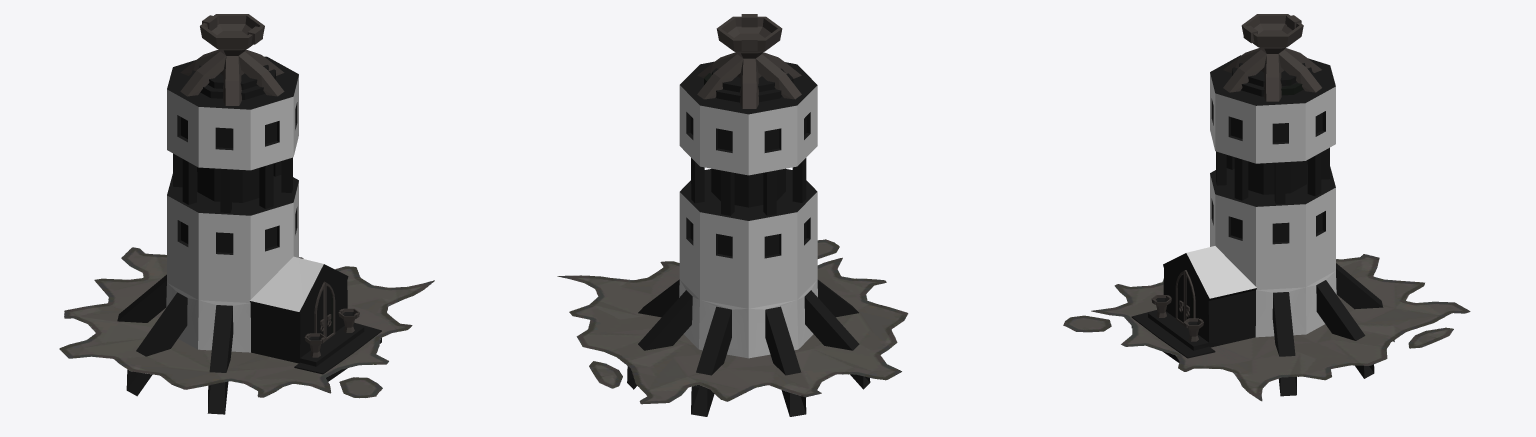
The model's file is hauntDisciple.fbx.
The picture shows the model from 3 angles, left to right: view 1: azimuth 30°, elevation 25°; view 2: azimuth 150°, elevation 25°; view 3: azimuth 270°, elevation 25°; orthographic projection. The views are drawn at different scales.
Parts seen in each view (by area): view 1: hauntDisciple, groundPlane; view 2: hauntDisciple, groundPlane; view 3: hauntDisciple, groundPlane.
Part boxes in pixels (x1=…): hauntDisciple: x1=117, y1=14, x2=381, y2=414; groundPlane: x1=59, y1=247, x2=434, y2=398; hauntDisciple: x1=627, y1=14, x2=870, y2=416; groundPlane: x1=557, y1=239, x2=908, y2=404; hauntDisciple: x1=1131, y1=14, x2=1394, y2=396; groundPlane: x1=1063, y1=254, x2=1470, y2=401.
Size of the model in its own units: 6 by 4.14 by 6.
